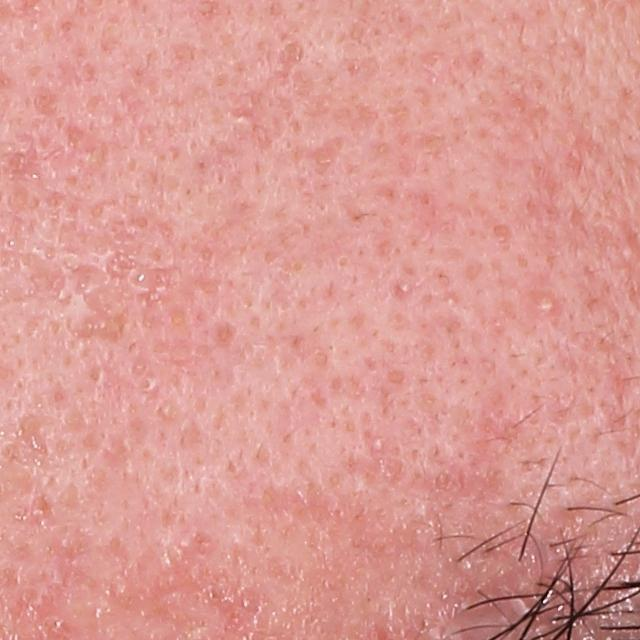comedo: (391, 278, 409, 301), (372, 437, 388, 451), (442, 296, 457, 309)
